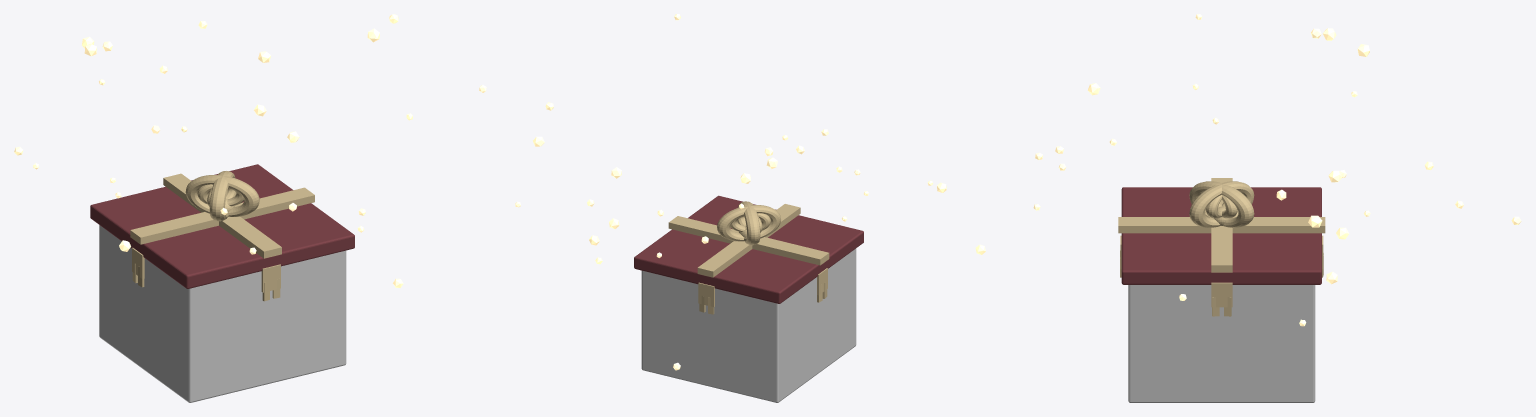
3 views of the same model, side by side, from view 1: azimuth 30°, elevation 25°; view 2: azimuth 150°, elevation 25°; view 3: azimuth 270°, elevation 25° (orthographic). The views are drawn at different scales.
Parts seen in each view (by area): view 1: GiftBox_Body, GiftBox_Lid, Lid_Ribbon_Y, Lid_Ribbon_X, Bow_BigLoop_1, Bow_BigLoop_0, Ribbon_Tail_0; view 2: GiftBox_Body, GiftBox_Lid, Lid_Ribbon_Y, Lid_Ribbon_X, Bow_BigLoop_0, Bow_BigLoop_1; view 3: GiftBox_Body, GiftBox_Lid, Lid_Ribbon_X, Bow_BigLoop_1, Bow_BigLoop_0, Lid_Ribbon_Y, Ribbon_Tail_3.
Part boxes in pixels (x1,y1,x2,y2): GiftBox_Body: [99, 225, 346, 402]; GiftBox_Lid: [90, 164, 354, 288]; Lid_Ribbon_Y: [130, 187, 314, 244]; Lid_Ribbon_X: [163, 173, 281, 258]; Bow_BigLoop_1: [185, 175, 259, 216]; Bow_BigLoop_0: [209, 171, 235, 221]; Ribbon_Tail_0: [261, 264, 280, 292]; GiftBox_Body: [641, 248, 856, 402]; GiftBox_Lid: [634, 195, 863, 303]; Lid_Ribbon_Y: [668, 216, 829, 265]; Lid_Ribbon_X: [697, 204, 800, 277]; Bow_BigLoop_0: [717, 205, 780, 241]; Bow_BigLoop_1: [738, 201, 760, 245]; GiftBox_Body: [1128, 285, 1315, 402]; GiftBox_Lid: [1121, 187, 1321, 284]; Lid_Ribbon_X: [1118, 217, 1325, 233]; Bow_BigLoop_1: [1189, 181, 1254, 227]; Bow_BigLoop_0: [1189, 181, 1254, 227]; Lid_Ribbon_Y: [1211, 178, 1232, 272]; Ribbon_Tail_3: [1211, 282, 1232, 307].
Size of the model in its own units: 3.82 by 2.49 by 4.09.
